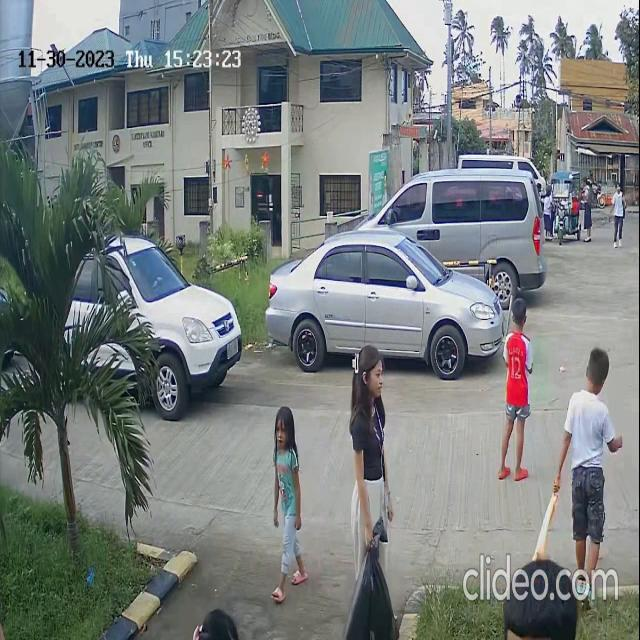garbage: (348, 518, 397, 636)
person: (267, 402, 314, 606), (503, 297, 531, 398), (350, 342, 388, 399)
